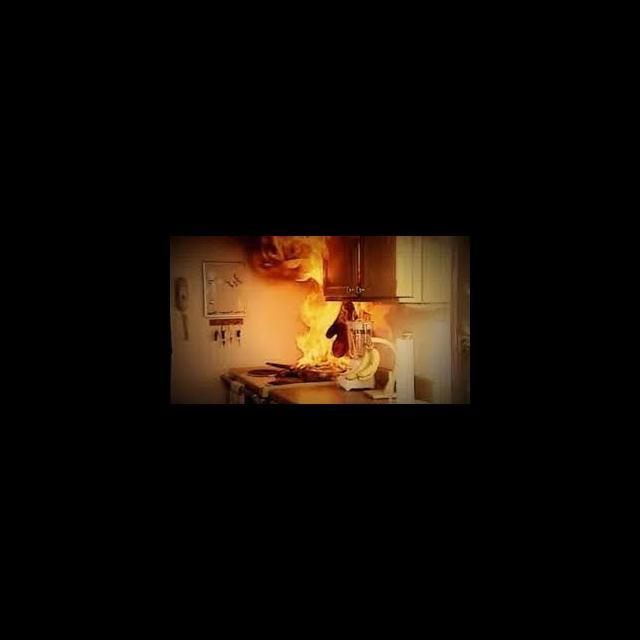Fire: (293, 288, 341, 370), (256, 237, 331, 285)
